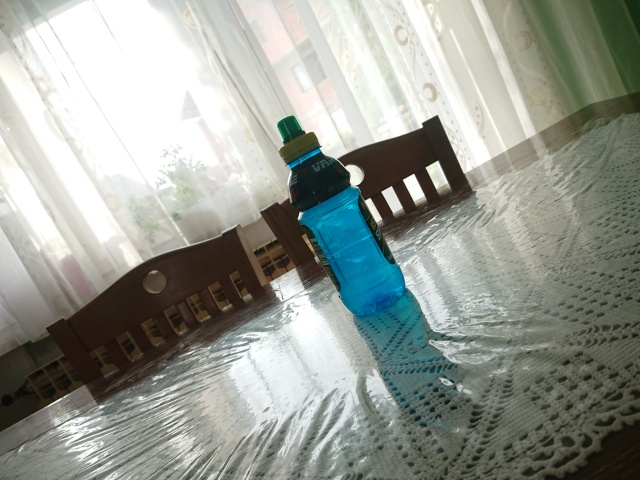Vindi Iso Sport Forest Strawberries 500mL: (275, 113, 408, 319)
